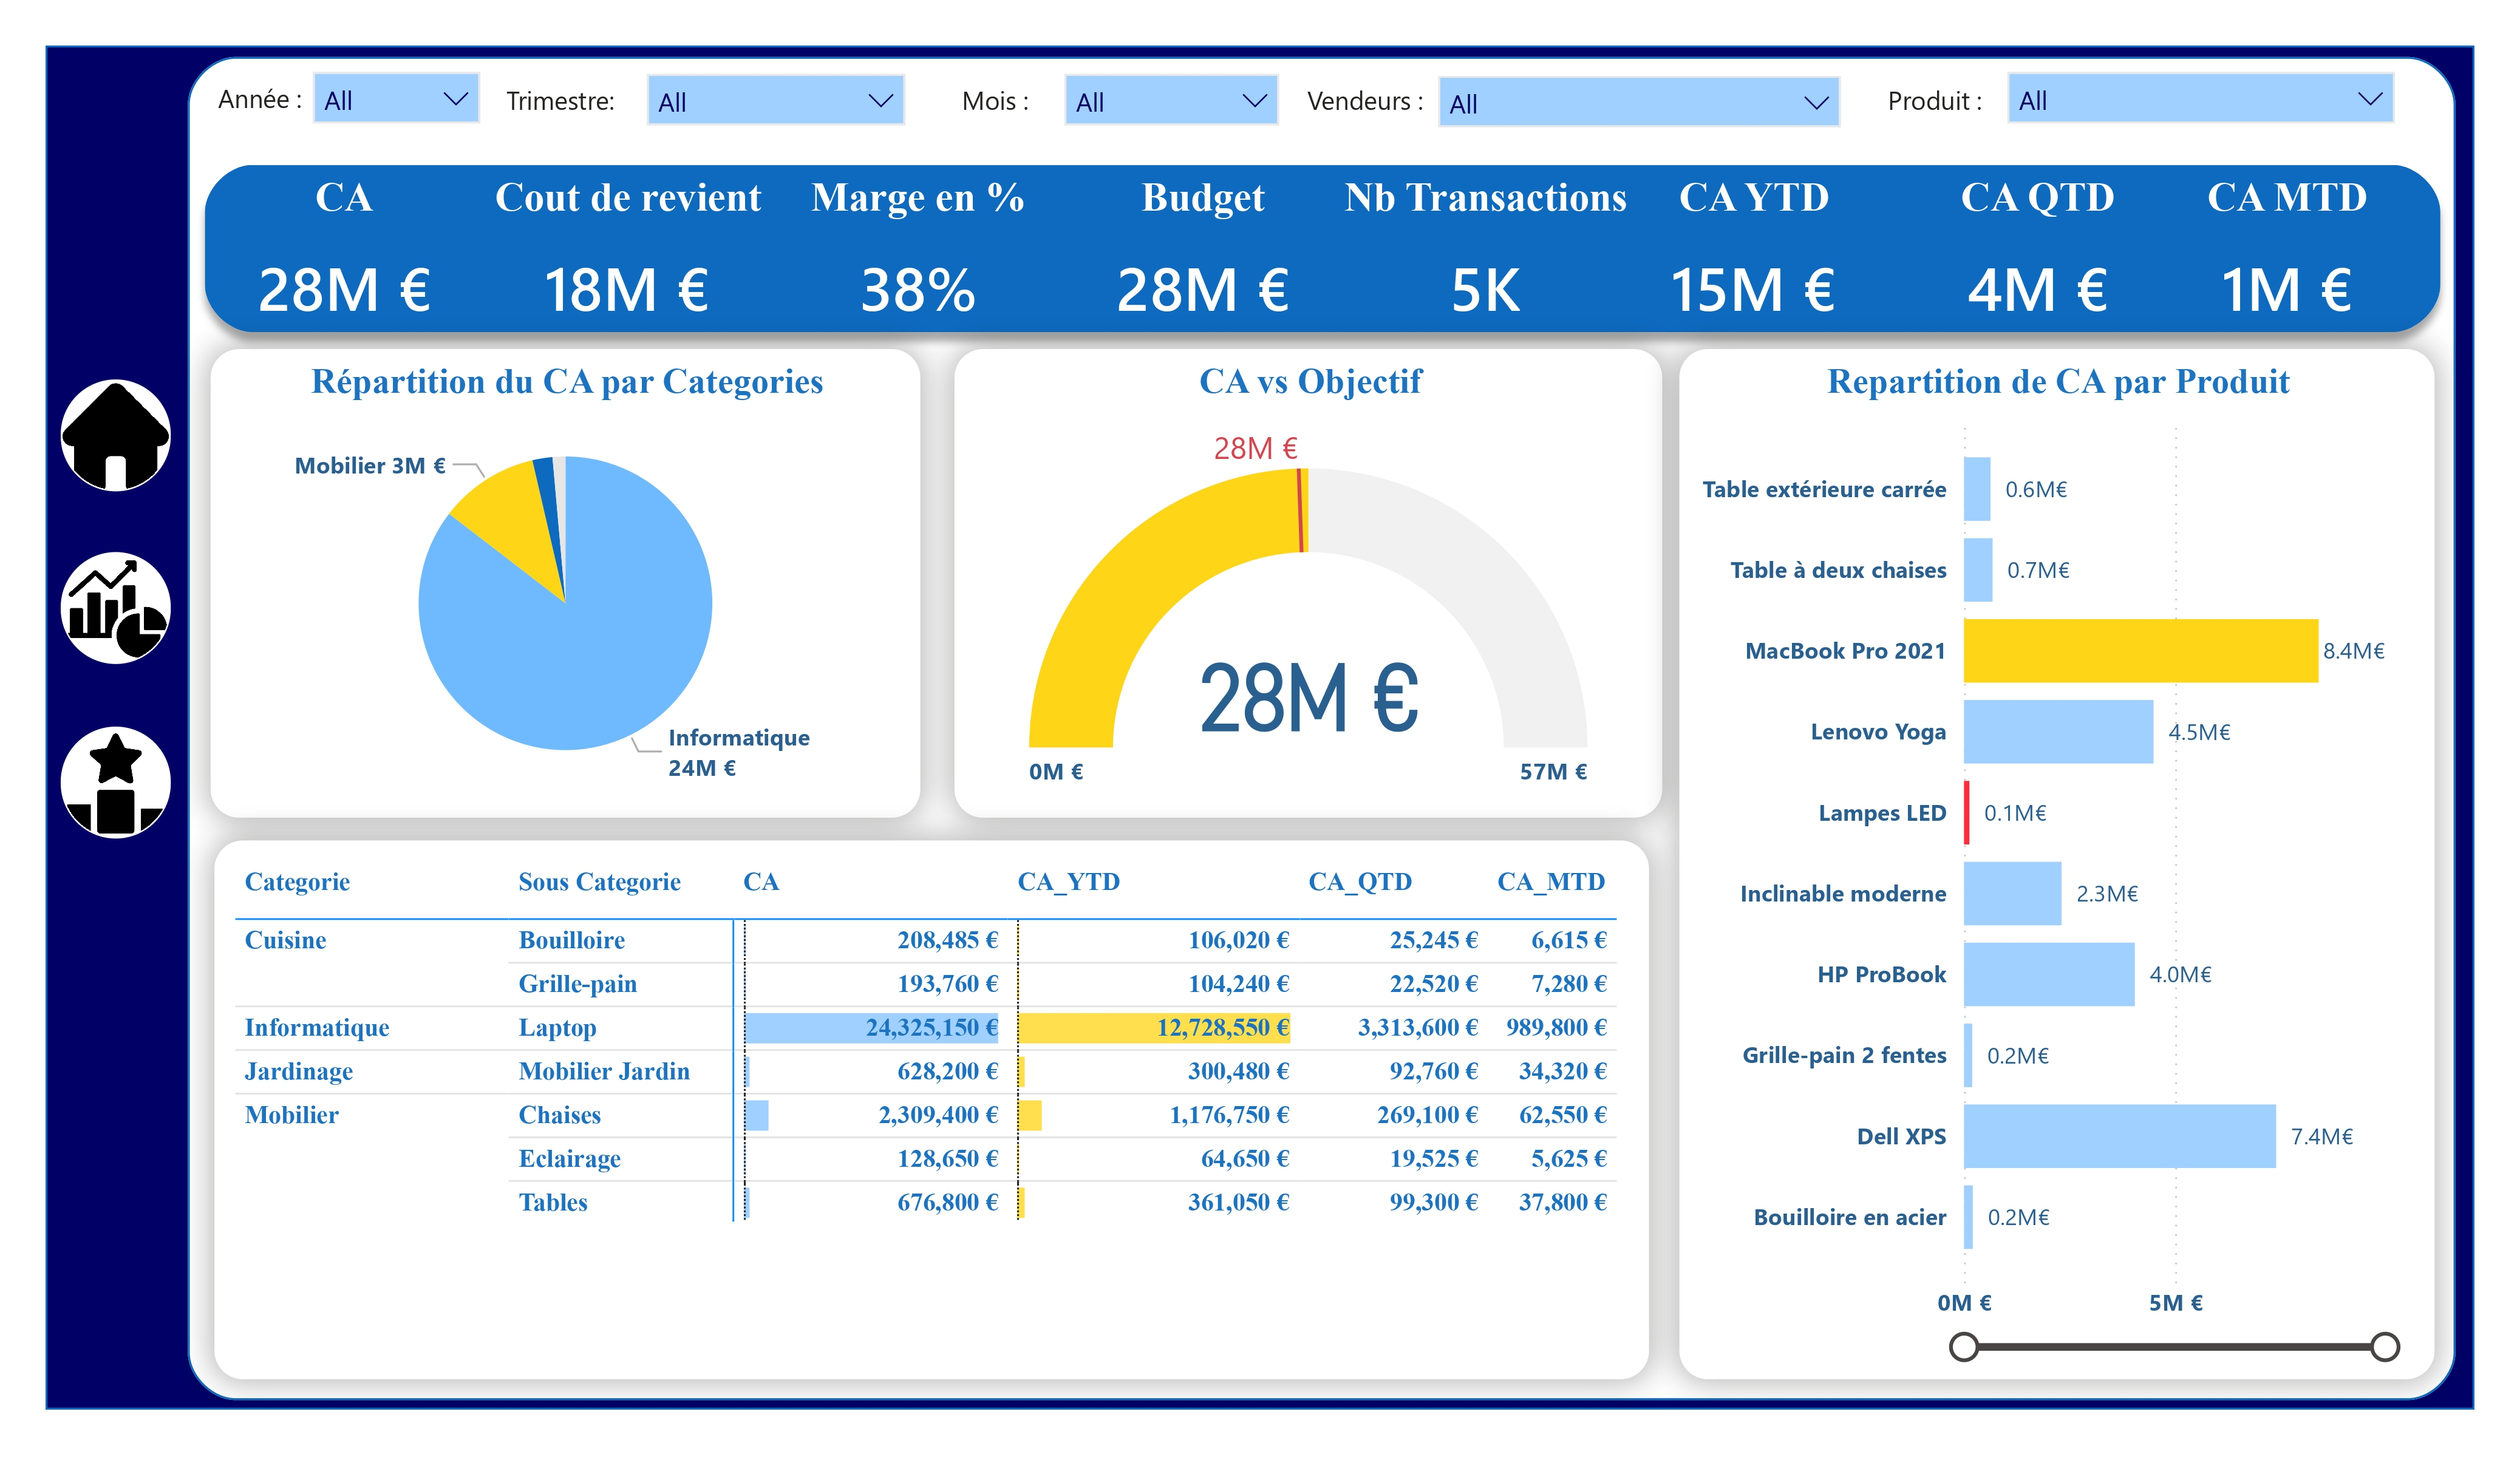

The page's visual inventory and layout, read from the dashboard file:
{"tool":"powerbi","page":{"name":"first","canvas":[1280,720],"ordinal":0},"visuals":[{"type":"shape","box":[0,0,1280,719.5],"z":0},{"type":"shape","box":[74.9,5.8,1195.2,708.5],"z":1000},{"type":"slicer","fields":{"Values":["Dim_Temps.Annee"]},"box":[130.7,3.8,107.9,49.3],"z":2000},{"type":"textbox","box":[86.4,14.4,66.2,41.8],"z":3000},{"type":"slicer","fields":{"Values":["Dim_Temps.Trimestre"]},"box":[306.7,5.1,156.7,48.3],"z":4000},{"type":"textbox","box":[238.5,14.6,93.8,41.5],"z":5000},{"type":"slicer","fields":{"Values":["Dim_Temps.Mois_Num"]},"box":[526.7,5.1,133.3,48.3],"z":6000},{"type":"textbox","box":[478.5,14.6,66.2,41.5],"z":7000},{"type":"slicer","fields":{"Values":["Dim_Vendeur.Nom"]},"box":[724.3,5.8,231.8,49],"z":8000},{"type":"textbox","box":[660,14.6,93.1,41.5],"z":9000},{"type":"slicer","fields":{"Values":["Dim_Produit.Nom_Produit"]},"box":[1023.8,4.3,224.6,49],"z":10000},{"type":"textbox","box":[966,15.4,93.1,41.5],"z":11000},{"type":"shape","box":[75.3,54.2,1195.7,105.4],"z":12000},{"type":"cardVisual","title":"CA","fields":{"Data":["Sum(Fait_Ventes.Montant_Vente)"]},"box":[64.8,67.8,185.2,91.9],"z":13000},{"type":"cardVisual","title":"Cout de revient","fields":{"Data":["Sum(Fait_Ventes.Cout_Total)"]},"box":[212.3,67.8,189.7,91.9],"z":14000},{"type":"cardVisual","title":"Marge en %","fields":{"Data":["Fait_Ventes.Marge_Pourcent"]},"box":[375,67.8,170.2,91.9],"z":15000},{"type":"cardVisual","title":"Budget","fields":{"Data":["Sum(Fait_Budget.Montant_Objectif)"]},"box":[513.5,67.8,192.8,91.9],"z":16000},{"type":"cardVisual","title":"Nb Transactions","fields":{"Data":["CountNonNull(Fait_Ventes.ID_Vente)"]},"box":[673.1,67.8,171.7,91.9],"z":17000},{"type":"cardVisual","title":"CA YTD","fields":{"Data":["Fait_Ventes.CA_YTD"]},"box":[807.2,67.8,186.7,91.9],"z":18000},{"type":"cardVisual","title":"CA QTD","fields":{"Data":["Fait_Ventes.CA_QTD"]},"box":[965.3,67.8,170.2,91.9],"z":19000},{"type":"cardVisual","title":"CA MTD","fields":{"Data":["Fait_Ventes.CA_MTD"]},"box":[1091.8,67.8,179.2,91.9],"z":20000},{"type":"pieChart","title":"Répartition du CA par Categories","fields":{"Category":["Dim_Categorie.Libelle_Categorie"],"Y":["Sum(Fait_Ventes.Montant_Vente)"]},"box":[87.3,159.6,373.5,247],"z":21000},{"type":"gauge","title":"CA vs Objectif","fields":{"Y":["Sum(Fait_Ventes.Montant_Vente)"],"TargetValue":["Sum(Fait_Budget.Montant_Objectif)"]},"box":[478.9,159.6,373.5,247],"z":22000},{"type":"clusteredBarChart","title":"Repartition de CA par Produit","fields":{"Y":["Sum(Fait_Ventes.Montant_Vente)"],"Category":["Dim_Produit.Nom_Produit"]},"box":[861.4,159.6,397.6,543.6],"z":23000},{"type":"pivotTable","fields":{"Rows":["Dim_Categorie.Libelle_Categorie","Dim_Sous_Categorie.Libelle_Sous_Cat"],"Values":["Sum(Fait_Ventes.Montant_Vente)","Fait_Ventes.CA_YTD","Fait_Ventes.CA_QTD","Fait_Ventes.CA_MTD"]},"box":[88.8,418.6,756,284.6],"z":24000},{"type":"image","box":[8.4,176.4,57.1,58.8],"z":24001},{"type":"image","box":[8.4,267.1,57.1,58.8],"z":24002},{"type":"image","box":[8.4,359.5,57.1,58.8],"z":24003}]}

Visuals, with their boxes on the page's 1280x720 design canvas (x1, y1, x2, y2). These are canvas units, not pixel positions in the 2520x1457 screenshot, which may show the page scaled, cropped or inside an application window:
shape: <bbox>0, 0, 1280, 720</bbox>
shape: <bbox>75, 6, 1270, 714</bbox>
slicer - Dim_Temps.Annee: <bbox>131, 4, 239, 53</bbox>
textbox: <bbox>86, 14, 153, 56</bbox>
slicer - Dim_Temps.Trimestre: <bbox>307, 5, 463, 53</bbox>
textbox: <bbox>238, 15, 332, 56</bbox>
slicer - Dim_Temps.Mois_Num: <bbox>527, 5, 660, 53</bbox>
textbox: <bbox>478, 15, 545, 56</bbox>
slicer - Dim_Vendeur.Nom: <bbox>724, 6, 956, 55</bbox>
textbox: <bbox>660, 15, 753, 56</bbox>
slicer - Dim_Produit.Nom_Produit: <bbox>1024, 4, 1248, 53</bbox>
textbox: <bbox>966, 15, 1059, 57</bbox>
shape: <bbox>75, 54, 1271, 160</bbox>
"CA" cardVisual: <bbox>65, 68, 250, 160</bbox>
"Cout de revient" cardVisual: <bbox>212, 68, 402, 160</bbox>
"Marge en %" cardVisual: <bbox>375, 68, 545, 160</bbox>
"Budget" cardVisual: <bbox>514, 68, 706, 160</bbox>
"Nb Transactions" cardVisual: <bbox>673, 68, 845, 160</bbox>
"CA YTD" cardVisual: <bbox>807, 68, 994, 160</bbox>
"CA QTD" cardVisual: <bbox>965, 68, 1136, 160</bbox>
"CA MTD" cardVisual: <bbox>1092, 68, 1271, 160</bbox>
"Répartition du CA par Categories" pieChart: <bbox>87, 160, 461, 407</bbox>
"CA vs Objectif" gauge: <bbox>479, 160, 852, 407</bbox>
"Repartition de CA par Produit" clusteredBarChart: <bbox>861, 160, 1259, 703</bbox>
pivotTable - Dim_Categorie.Libelle_Categorie x Dim_Sous_Categorie.Libelle_Sous_Cat: <bbox>89, 419, 845, 703</bbox>
image: <bbox>8, 176, 66, 235</bbox>
image: <bbox>8, 267, 66, 326</bbox>
image: <bbox>8, 360, 66, 418</bbox>
